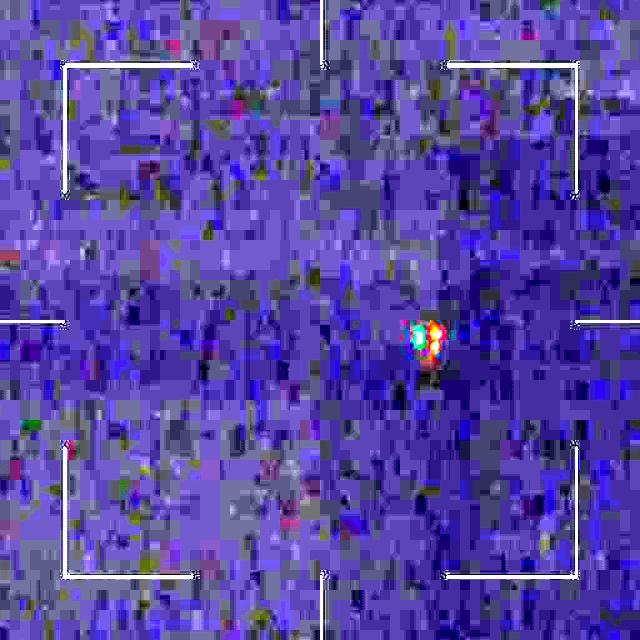bird: (411, 322, 444, 356)
